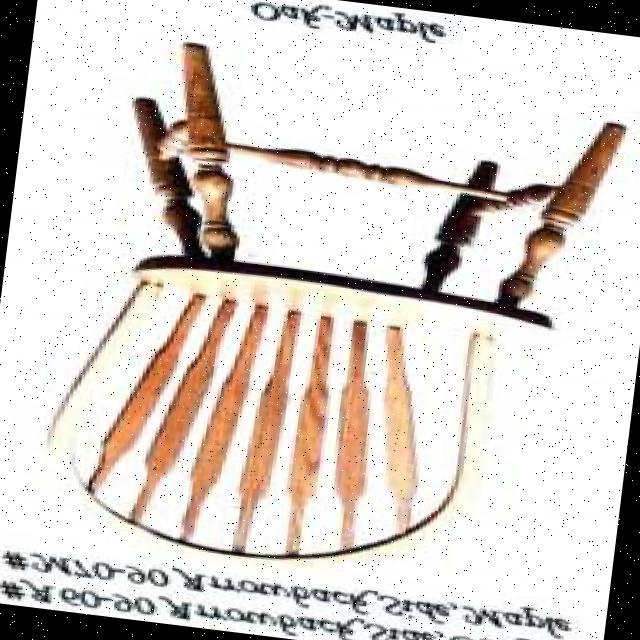Chair: (0, 29, 640, 608)
